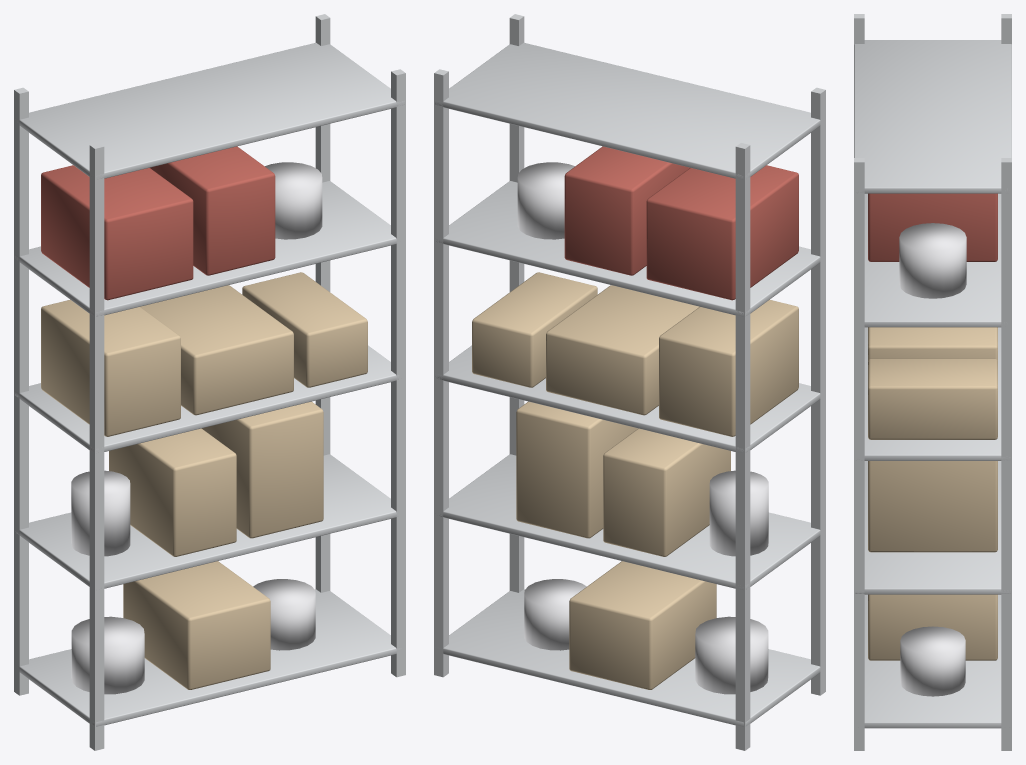
File: storage_shelf.glb
3 renders of one model, left to right at view 1: azimuth 30°, elevation 25°; view 2: azimuth 150°, elevation 25°; view 3: azimuth 270°, elevation 25°, orthographic. The views are drawn at different scales.
Visible parts, largest first — view 1: Cube.016, Cube.014, Cube.005, Cube.010, Cube.011, Cube.004, Cube.007, Cube.008, Cube.006, Cube.015, Cube.013, Cube (+9 smaller); view 2: Cube.016, Cube.014, Cube.005, Cube.010, Cube.011, Cube.004, Cube.007, Cube.008, Cube.006, Cube.015, Cube.013, Cube.001 (+9 smaller); view 3: Cube.016, Cube.008, Cube.012, Cube.004, Cube.013, Cube.006, Cube.005, Cube.015, Cube.002, Cube.003, Cylinder.003, Cylinder.001 (+4 smaller).
Boxes of the visible parts, <box> form: Cube.016: <box>15,42,404,179</box>; Cube.014: <box>41,165,193,300</box>; Cube.005: <box>123,561,270,689</box>; Cube.010: <box>41,299,180,436</box>; Cube.011: <box>140,285,293,415</box>; Cube.004: <box>16,589,399,726</box>; Cube.007: <box>109,428,236,556</box>; Cube.008: <box>202,401,323,538</box>; Cube.006: <box>15,454,397,588</box>; Cube.015: <box>150,146,275,275</box>; Cube.013: <box>15,181,396,316</box>; Cube: <box>89,143,104,750</box>; Cube.016: <box>435,42,820,179</box>; Cube.014: <box>646,165,798,300</box>; Cube.005: <box>569,561,716,689</box>; Cube.010: <box>659,299,798,436</box>; Cube.011: <box>546,285,699,415</box>; Cube.004: <box>435,589,820,726</box>; Cube.007: <box>603,428,730,556</box>; Cube.008: <box>516,401,637,538</box>; Cube.006: <box>439,454,820,589</box>; Cube.015: <box>564,146,689,275</box>; Cube.013: <box>435,181,820,316</box>; Cube.001: <box>735,143,750,750</box>; Cube.016: <box>854,40,1011,193</box>; Cube.008: <box>868,461,997,552</box>; Cube.012: <box>868,358,997,439</box>; Cube.004: <box>864,594,1009,728</box>; Cube.013: <box>864,193,1001,327</box>; Cube.006: <box>855,461,1010,594</box>; Cube.005: <box>868,594,997,660</box>; Cube.015: <box>868,193,997,261</box>; Cube.002: <box>854,158,864,750</box>; Cube.003: <box>1001,158,1011,750</box>; Cylinder.003: <box>899,223,966,298</box>; Cylinder.001: <box>900,626,965,696</box>.
Size of the model in its own units: 1 by 1.85 by 0.45.
